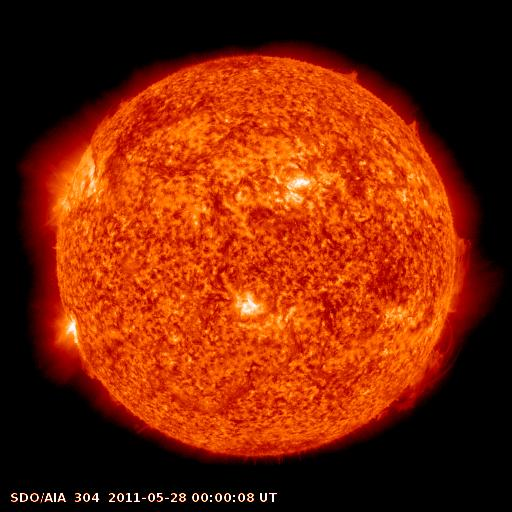prominence: (374, 315, 461, 425), (444, 233, 482, 303), (88, 91, 138, 143), (75, 346, 106, 388), (332, 59, 367, 90), (400, 108, 429, 140)
